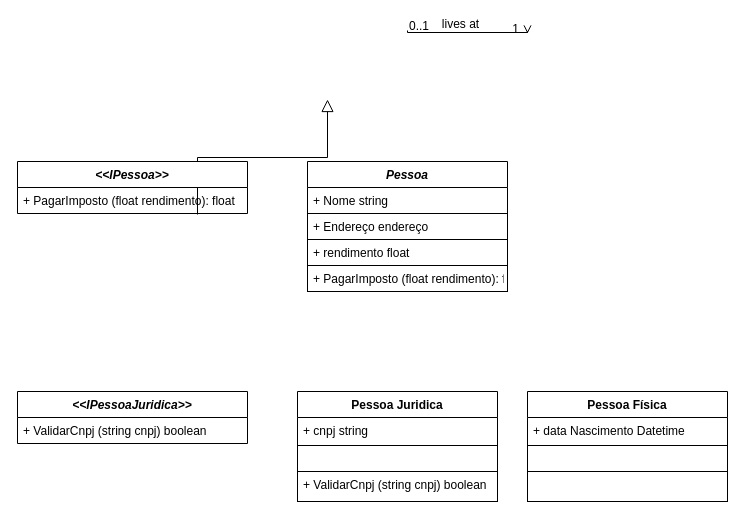
Some shapes in this 745 by 522 pixel diagram are drawn without their labels. The centre of each missing label's shape, as x and y in pixels:
"+ cpf string" goes at (x=627, y=458).
"+ razão social string" goes at (x=397, y=458).
